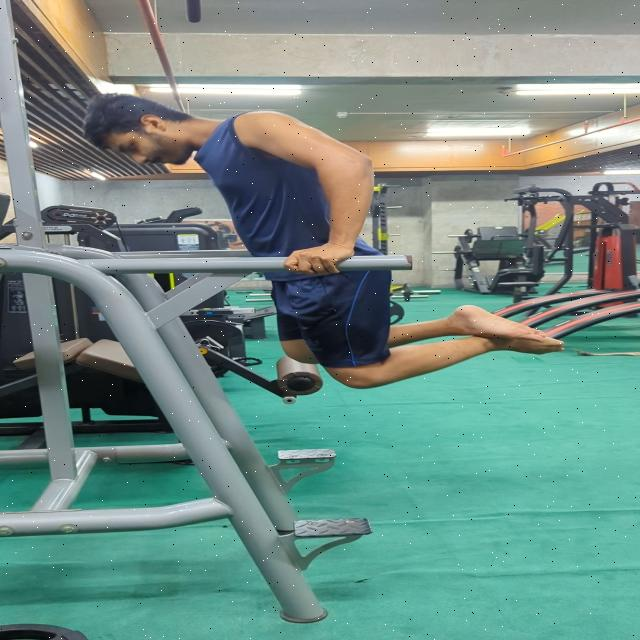Normal_Dips: (71, 89, 575, 394)
